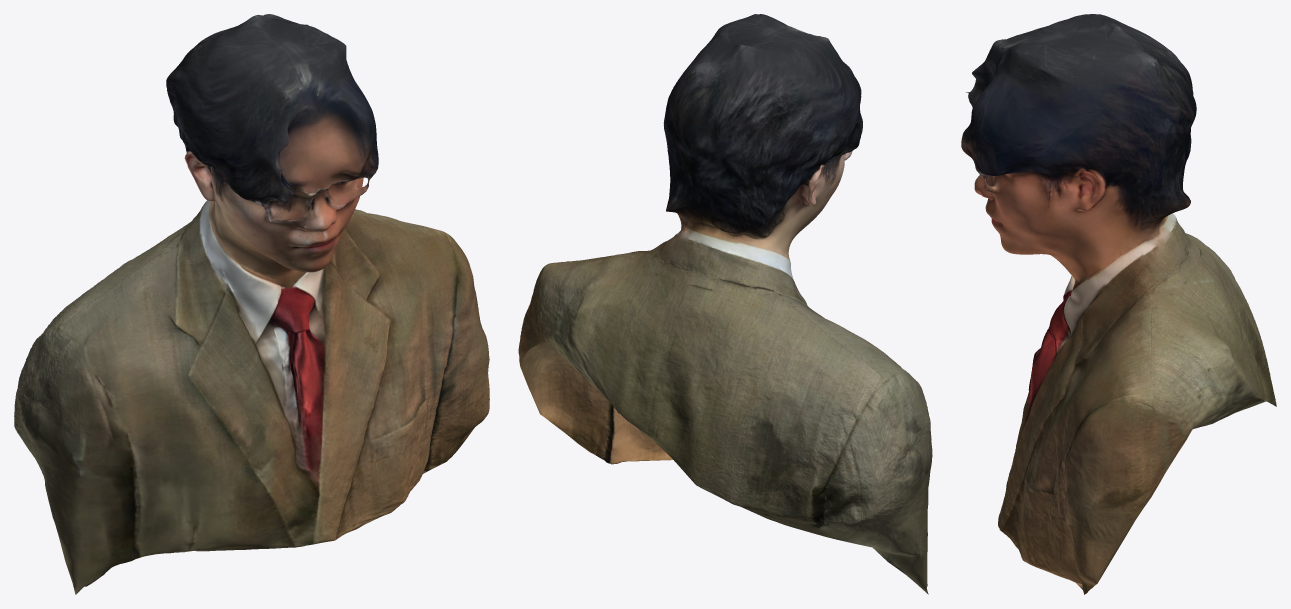
The picture shows the model from 3 angles, left to right: view 1: azimuth 30°, elevation 25°; view 2: azimuth 150°, elevation 25°; view 3: azimuth 270°, elevation 25°; orthographic projection. The views are drawn at different scales.
Parts seen in each view (by area): view 1: 3DModel; view 2: 3DModel; view 3: 3DModel.
Part boxes in pixels (x1,y1,x2,y2): 3DModel: (14, 14, 489, 594); 3DModel: (518, 14, 932, 594); 3DModel: (961, 14, 1276, 594).
Bounding box in the file's own units: 0.2085 × 0.2454 × 0.131.
Materials: 1 (1 with a texture image).
